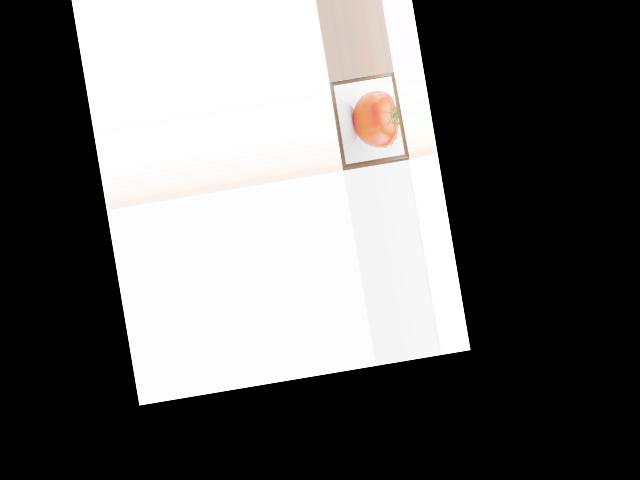tomato: (348, 88, 403, 152)
